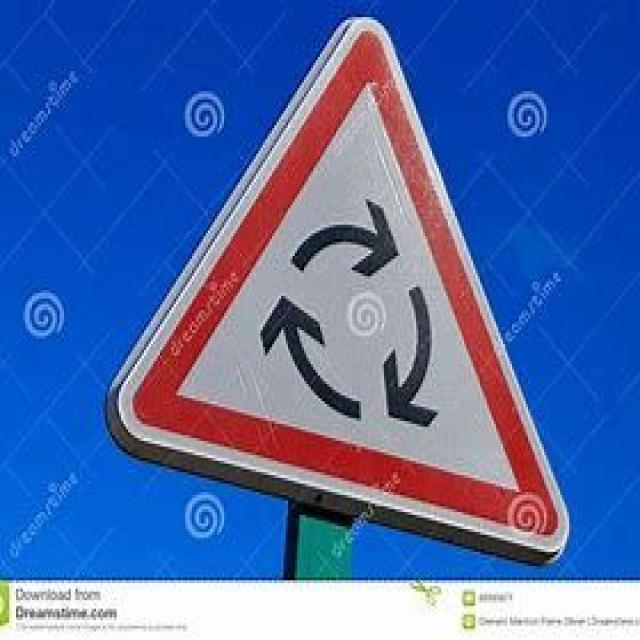ROUNDABOUT: (100, 12, 574, 574)
